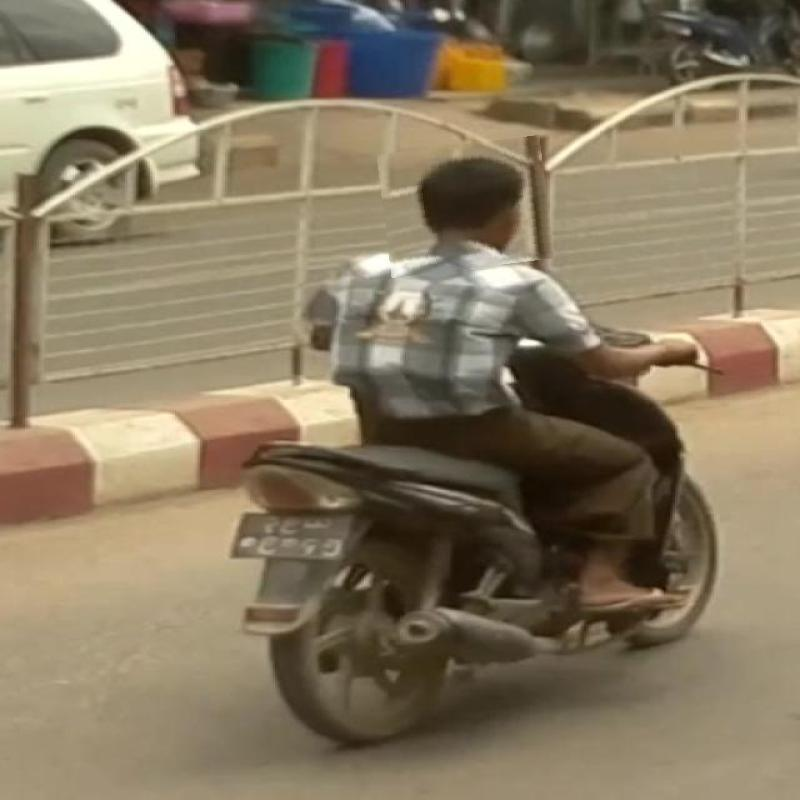nohelmet: (380, 140, 551, 274)
